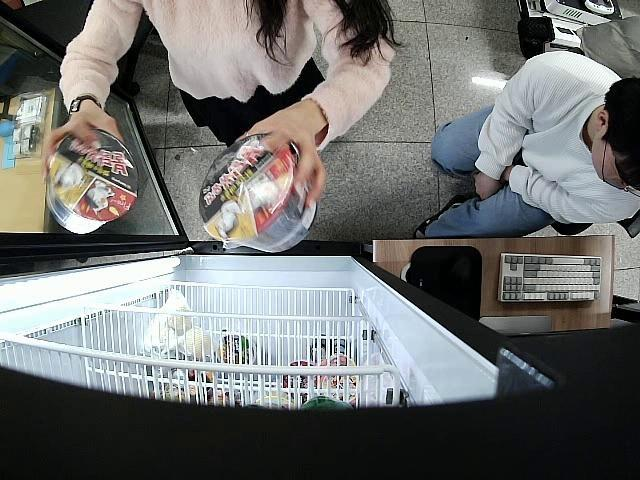07_buldak_L: (200, 134, 315, 251), (48, 132, 140, 232)
